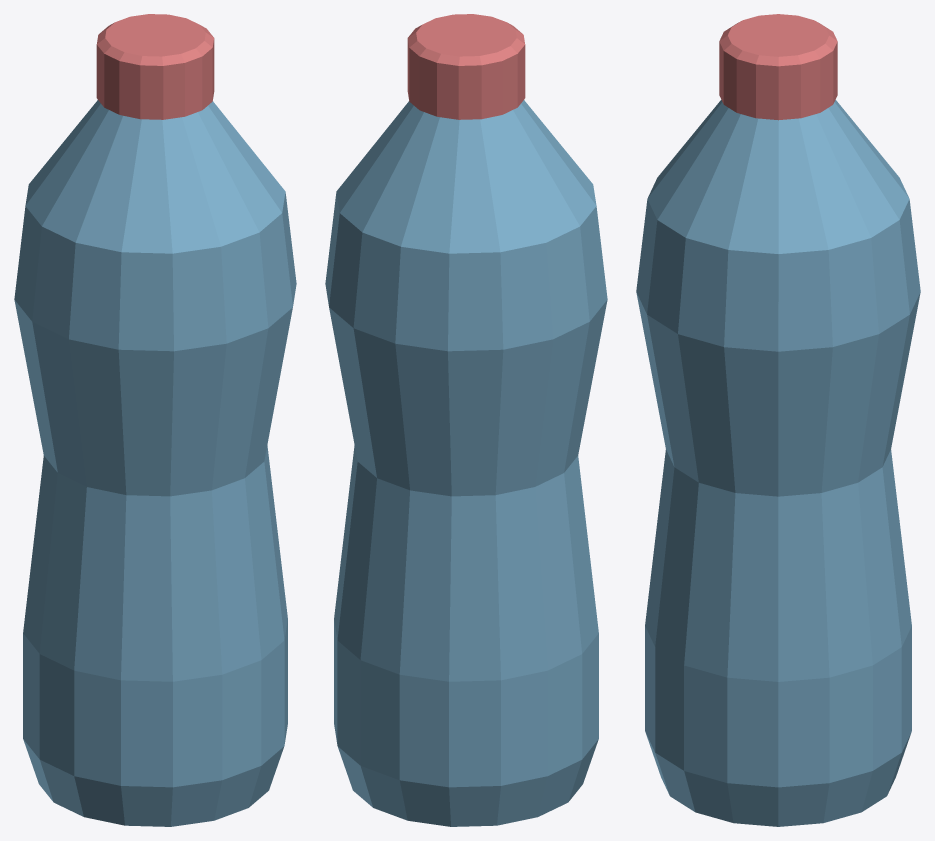
File: Bottle_02.fbx
3 views of the same model, side by side, from view 1: azimuth 30°, elevation 25°; view 2: azimuth 150°, elevation 25°; view 3: azimuth 270°, elevation 25° (orthographic).
Parts seen in each view (by area): view 1: Cylinder001; view 2: Cylinder001; view 3: Cylinder001.
Boxes of the visible parts, x1,y1,x2,y2 form: Cylinder001: [14, 14, 296, 826]; Cylinder001: [325, 14, 607, 826]; Cylinder001: [636, 14, 920, 826].
Bounding box in the file's own units: 8.53 × 24.53 × 8.53.
